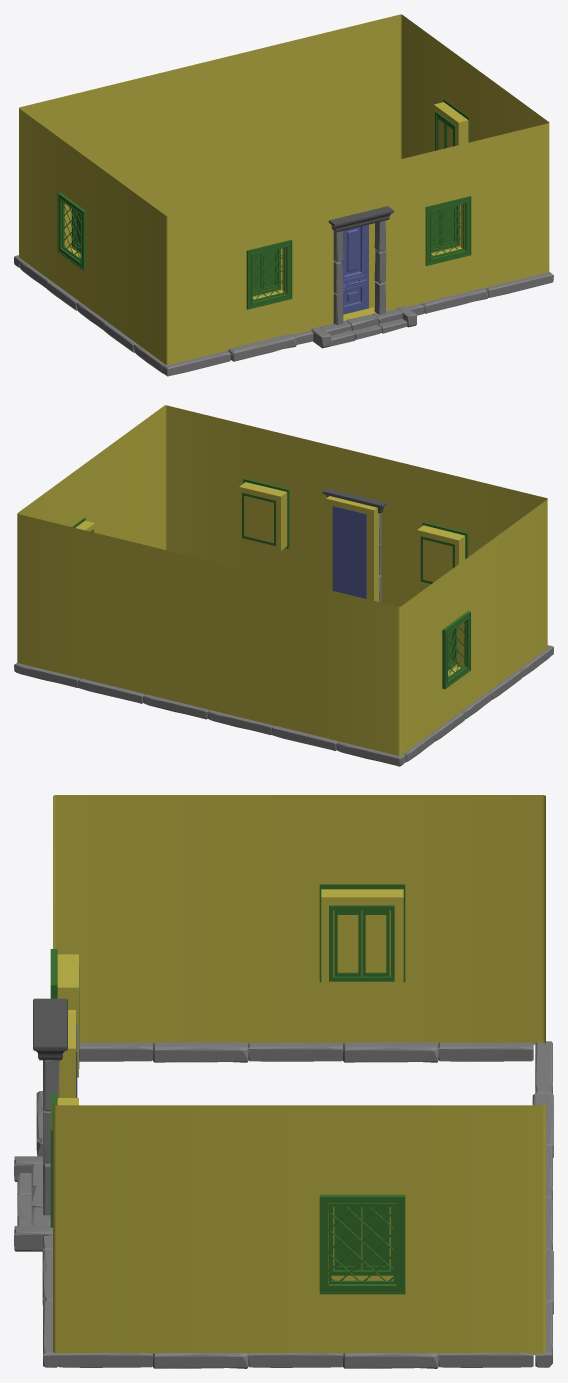
Rendered from SM_building_modular_floor_2x1_01.fbx.
3 views of the same model, one above another, from view 1: azimuth 30°, elevation 25°; view 2: azimuth 150°, elevation 25°; view 3: azimuth 270°, elevation 25° (orthographic). The views are drawn at different scales.
Visible parts, largest first — view 1: Object32365; view 2: Object32365; view 3: Object32365.
Part boxes in pixels (<box>): Object32365: <box>14,14,553,376</box>; Object32365: <box>14,405,553,766</box>; Object32365: <box>14,795,553,1368</box>.
Bounding box in the file's own units: 424 × 166 × 306.
